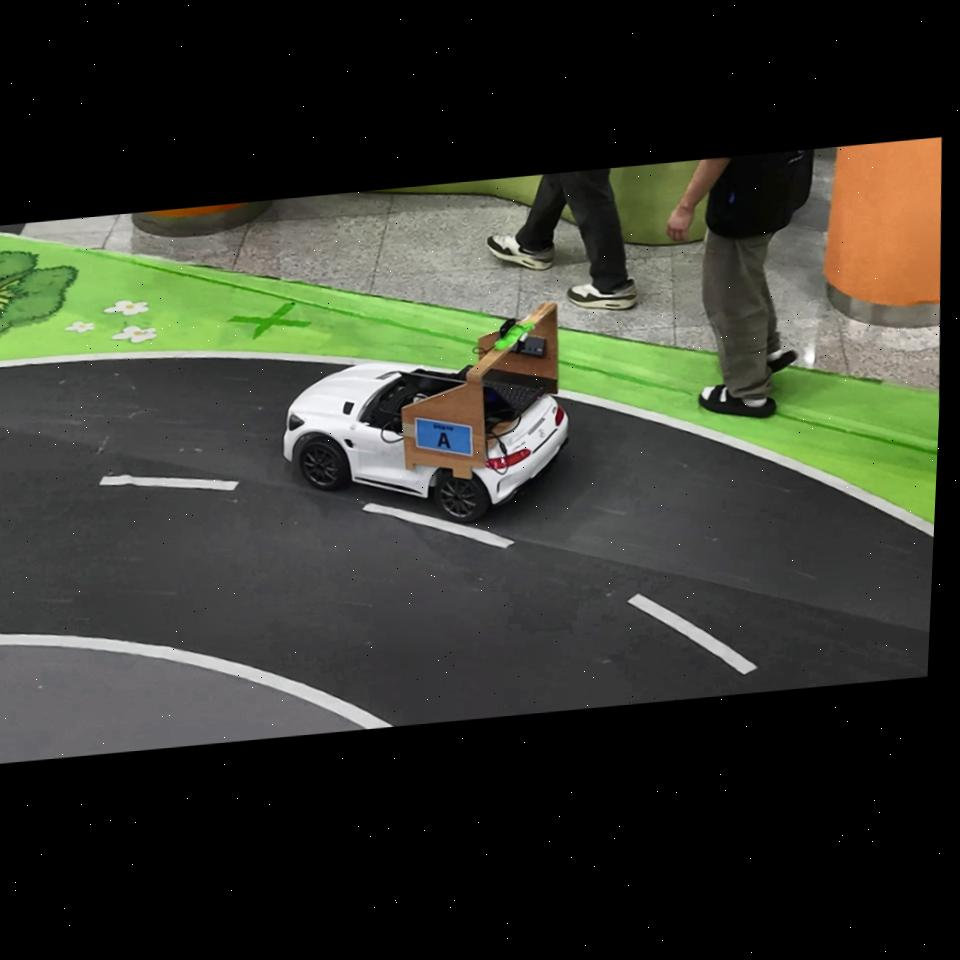broken_line: (628, 593, 757, 674), (362, 503, 515, 548), (99, 475, 239, 490)
